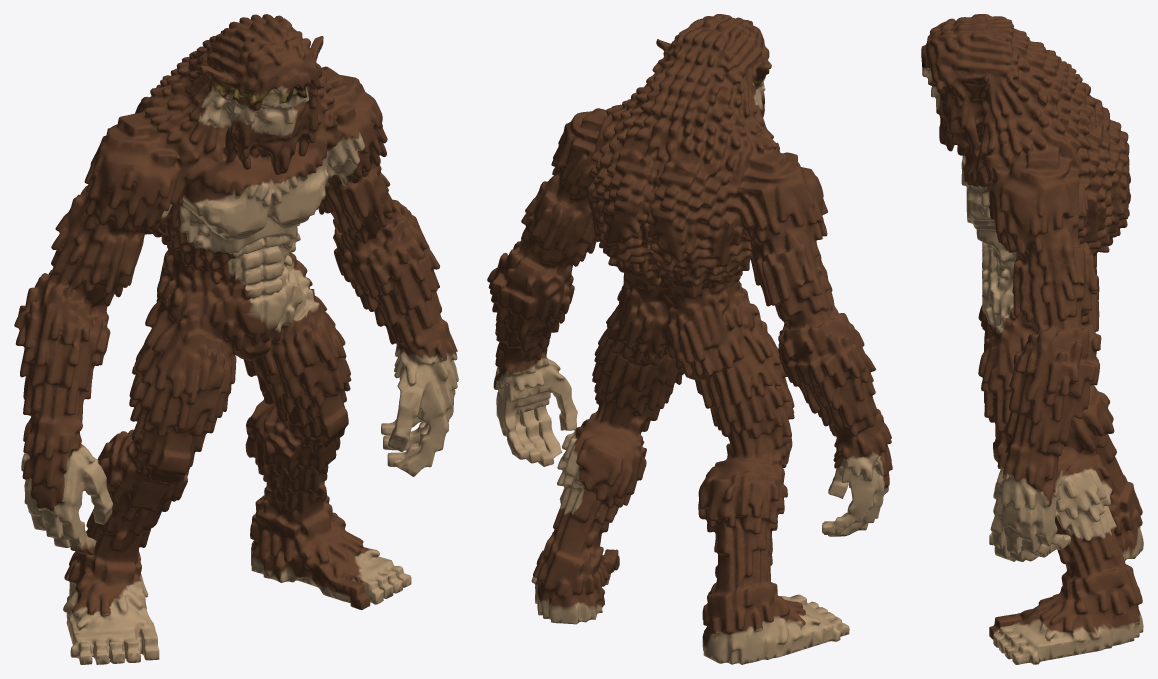
Rendered from beast_titan.glb.
3 views of the same model, side by side, from view 1: azimuth 30°, elevation 25°; view 2: azimuth 150°, elevation 25°; view 3: azimuth 270°, elevation 25° (orthographic). The views are drawn at different scales.
Parts seen in each view (by area): view 1: world; view 2: world; view 3: world.
Part boxes in pixels (x1=…): world: x1=14, y1=14, x2=458, y2=664; world: x1=487, y1=14, x2=892, y2=664; world: x1=921, y1=14, x2=1143, y2=664.
Bounding box in the file's own units: 1.38 × 1.9 × 0.6697.
